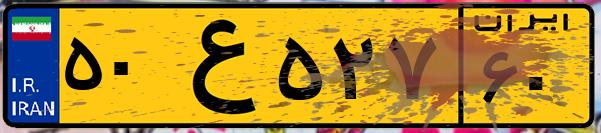0: (525, 38, 570, 115), (110, 28, 158, 98)
2: (330, 28, 385, 110)
5: (270, 28, 330, 110), (57, 26, 110, 100)
6: (475, 38, 525, 113)
7: (385, 28, 445, 110)
ع: (158, 12, 270, 120)
